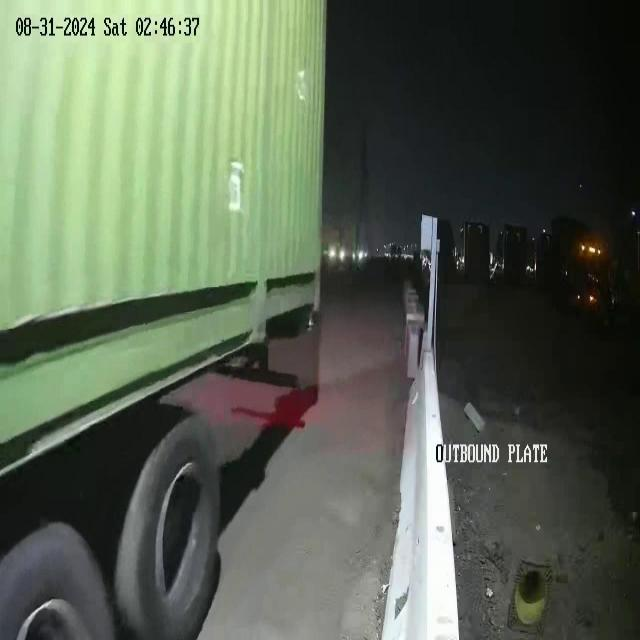TRUCK_OUT: (0, 1, 328, 637)
